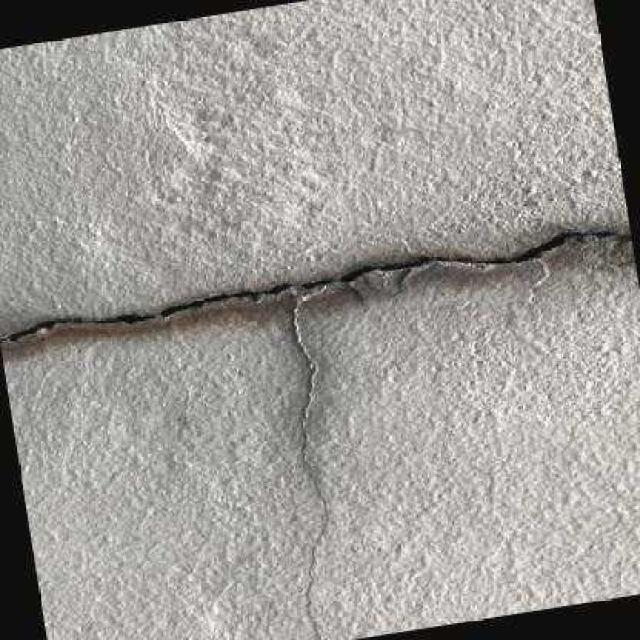D00: (0, 229, 630, 640)
